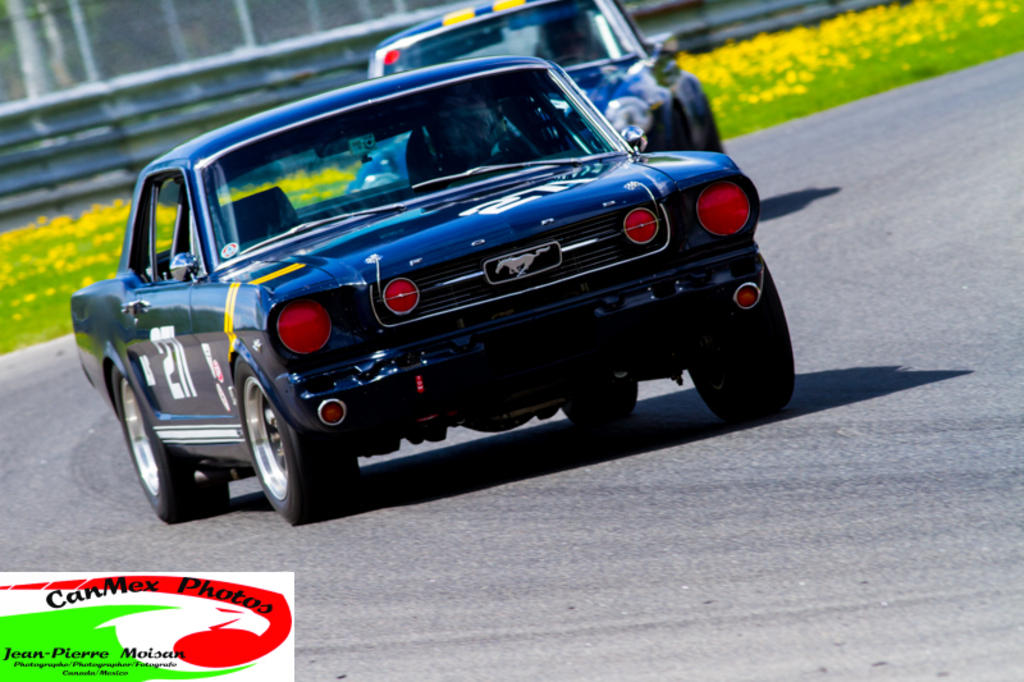Car: (107, 55, 843, 533), (371, 0, 723, 153)
